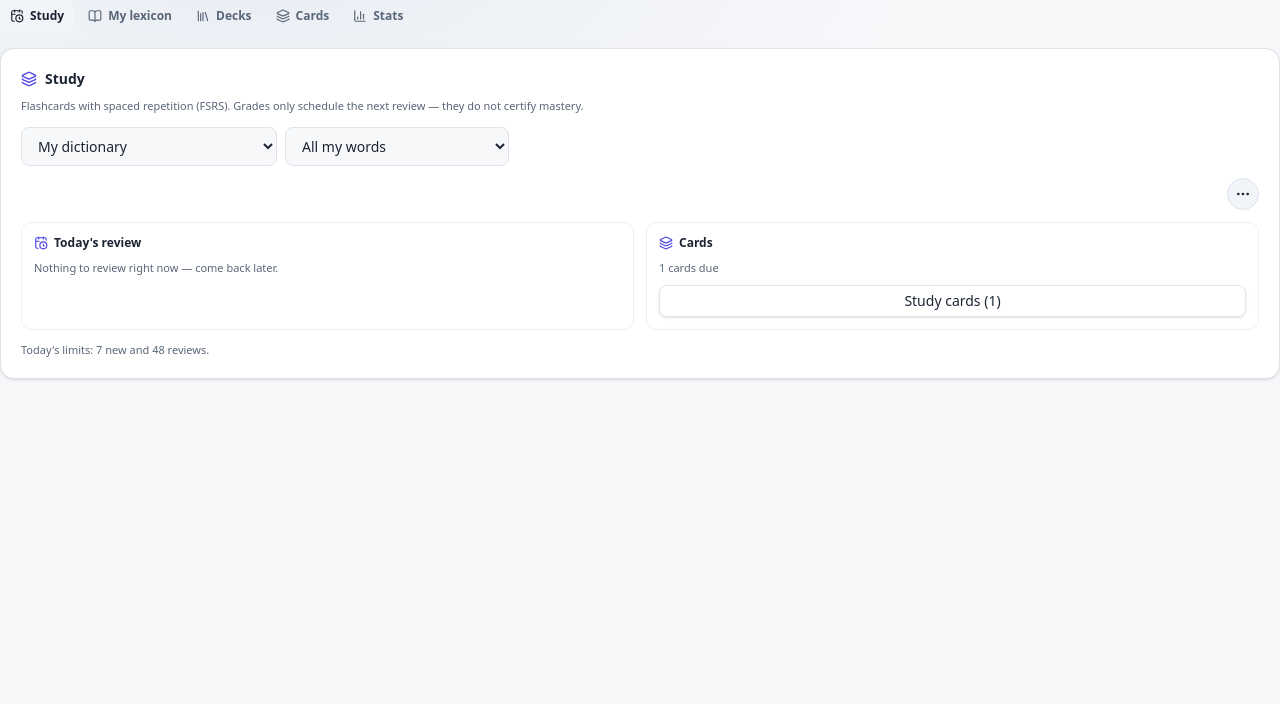
Test case: FlashcardsScreen › «Mi léxico» monta el inventario, sin estudio ni repaso (V3.85.0)
The image size is (1280, 704).
Click the tab "My lexicon".
click(130, 16)  # box [78, 0, 182, 32]
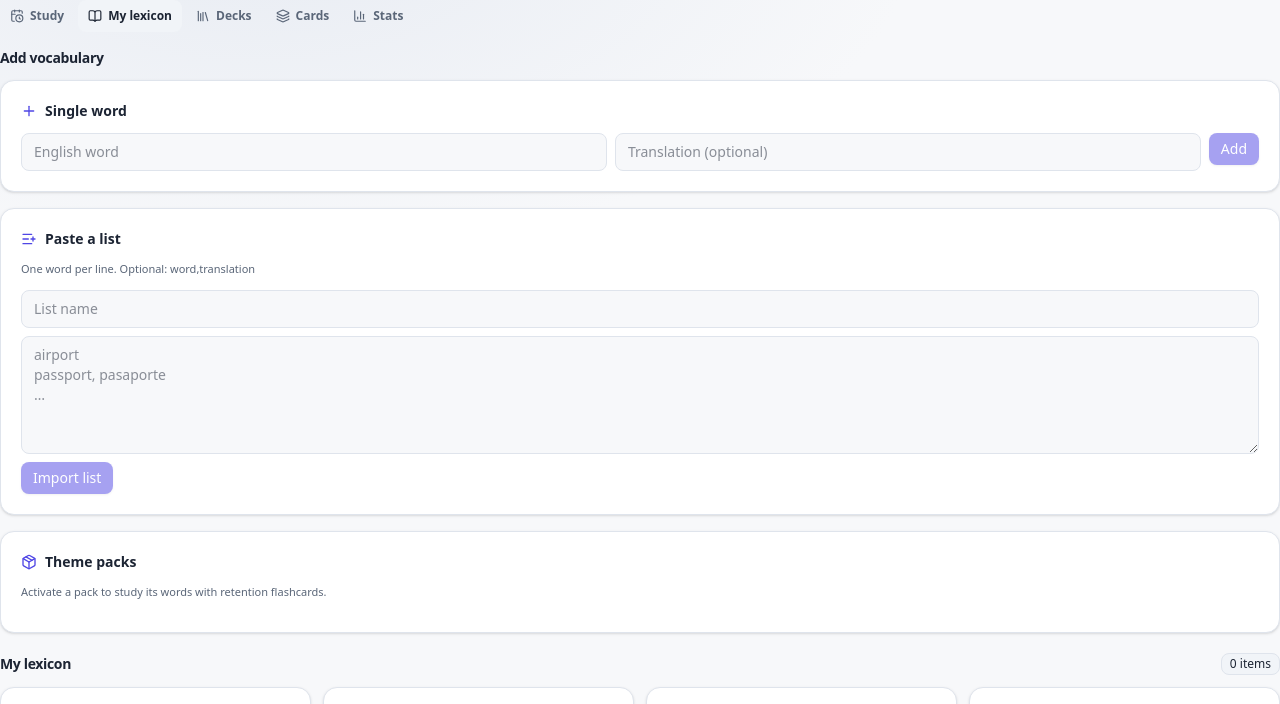
expect the heading "Add vocabulary" is shown: met, box [0, 48, 104, 67]
expect the button "Study cards (1)" is gone: met
